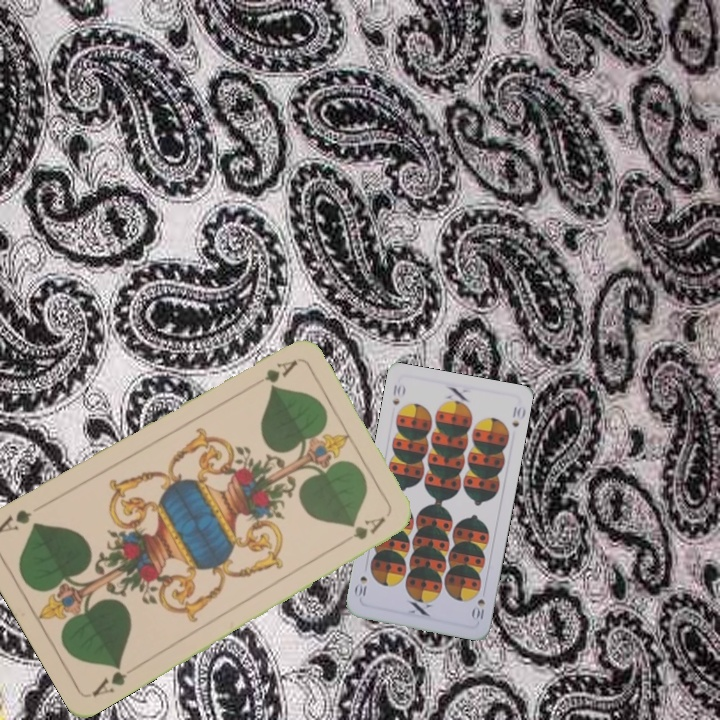GA: (244, 356, 300, 392), (87, 659, 130, 700)
S10: (468, 594, 487, 623), (389, 381, 408, 408)
